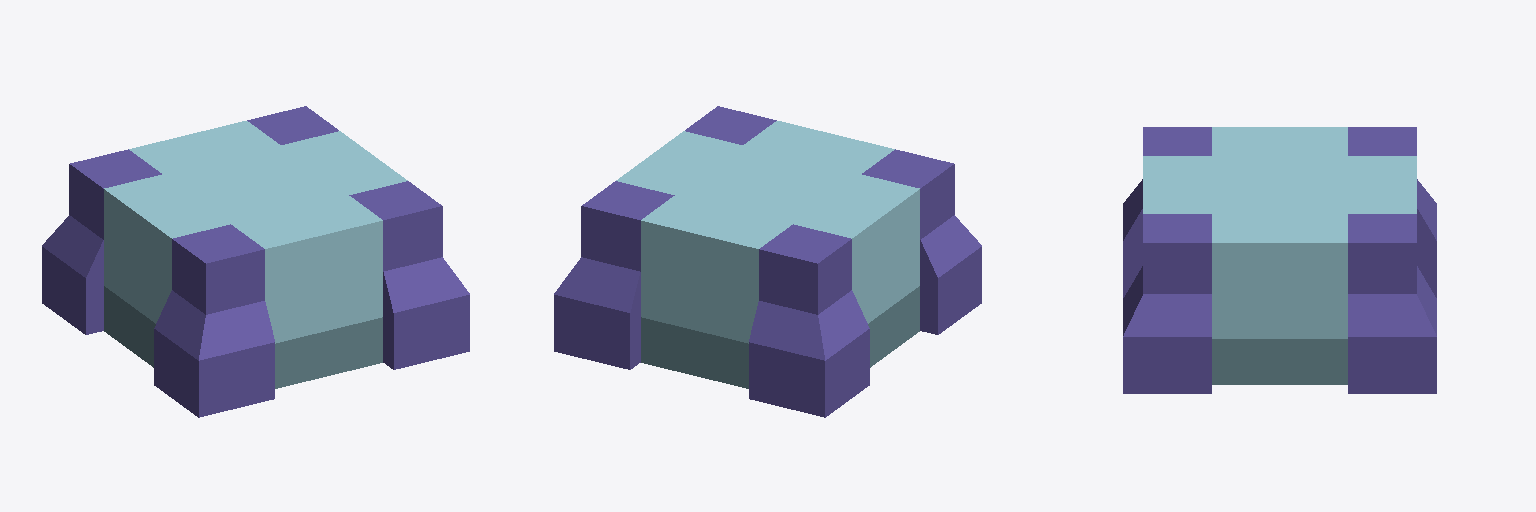
The model's file is towerSquare_bottomB.obj.
3 views of the same model, side by side, from view 1: azimuth 30°, elevation 25°; view 2: azimuth 150°, elevation 25°; view 3: azimuth 270°, elevation 25° (orthographic).
Visible parts, largest first — view 1: towerSquare_bottomB; view 2: towerSquare_bottomB; view 3: towerSquare_bottomB.
Part boxes in pixels (x1,y1,x2,y2): towerSquare_bottomB: (42,106,469,417); towerSquare_bottomB: (554,106,981,417); towerSquare_bottomB: (1123,127,1436,393).
Bounding box in the file's own units: 1 × 0.5 × 1.